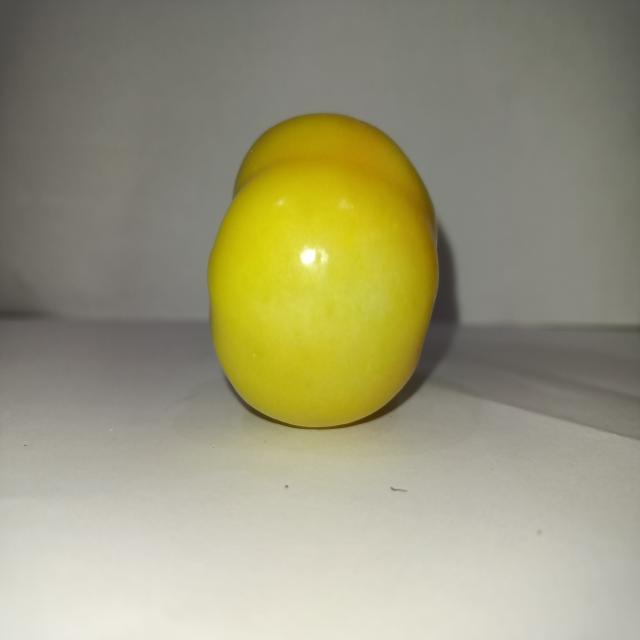Red: (206, 111, 440, 429)
